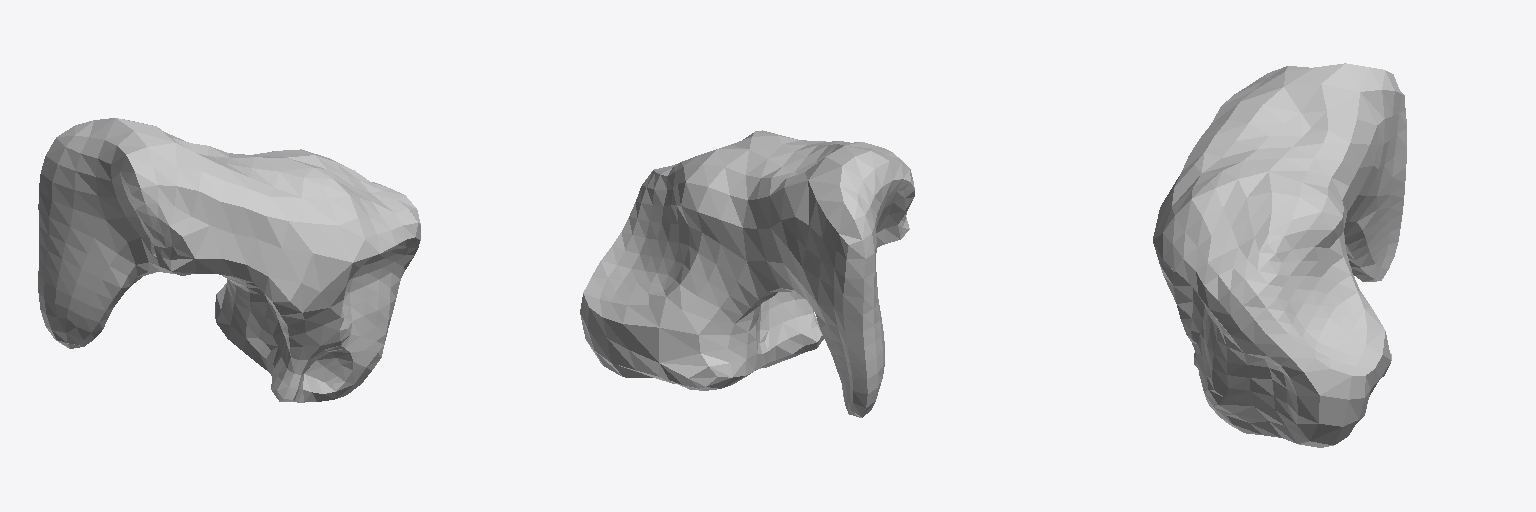
Rendered from StonesArc.obj.
The picture shows the model from 3 angles: view 1: azimuth 30°, elevation 25°; view 2: azimuth 150°, elevation 25°; view 3: azimuth 270°, elevation 25°; orthographic projection.
Visible parts, largest first — view 1: Group18033; view 2: Group18033; view 3: Group18033.
Part boxes in pixels (x1,y1,x2,y2): Group18033: (38,118,420,402); Group18033: (580,130,914,417); Group18033: (1153,63,1406,447).
Size of the model in its own units: 4.82 by 4.02 by 3.31.